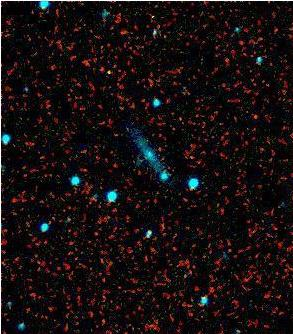star: (98, 59, 128, 89)
